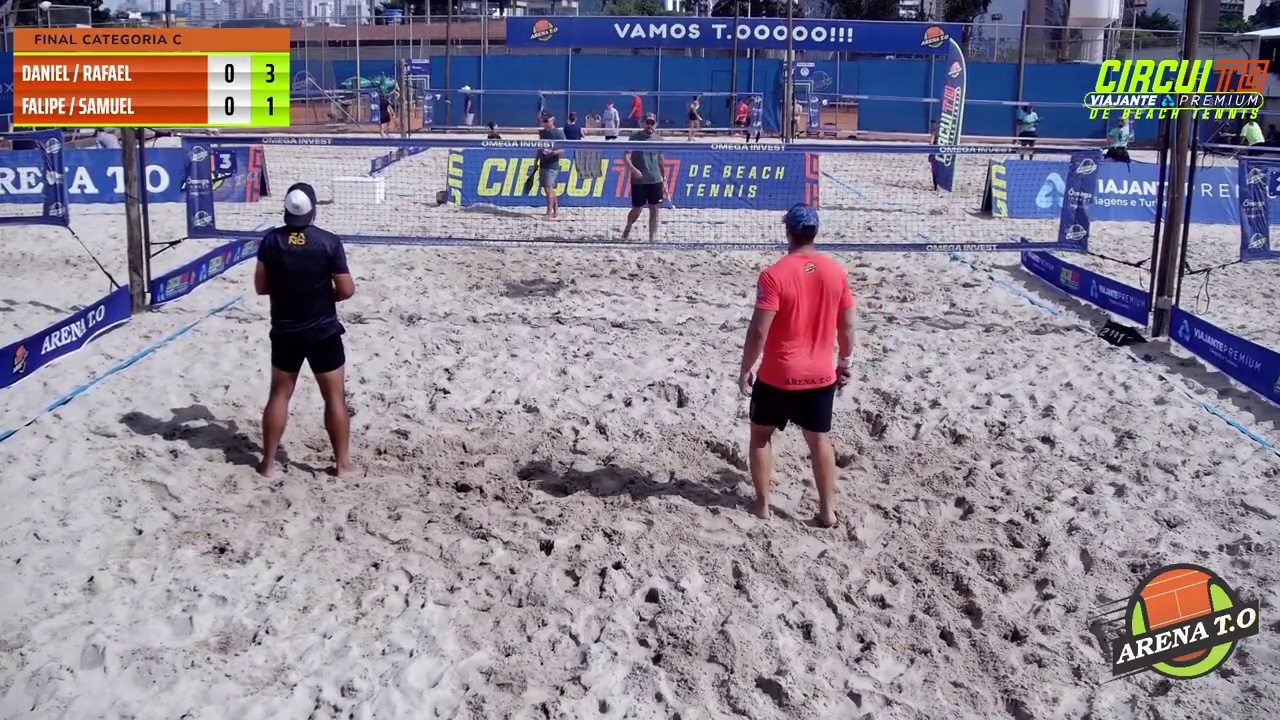court_line: (646, 0, 796, 486)
